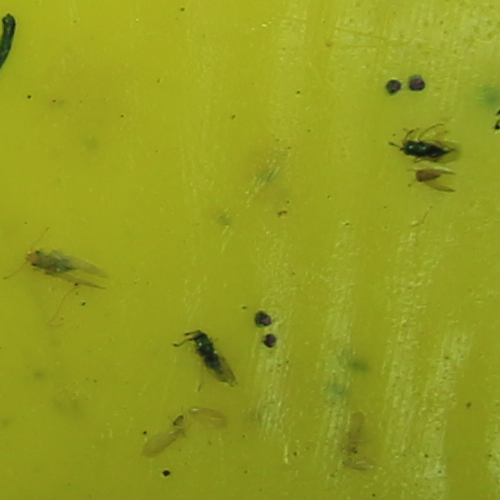Glycaspis: (22, 248, 78, 273)
Platyobria: (413, 168, 443, 182)
Psyllaephagus: (191, 333, 223, 374), (396, 137, 454, 159)
